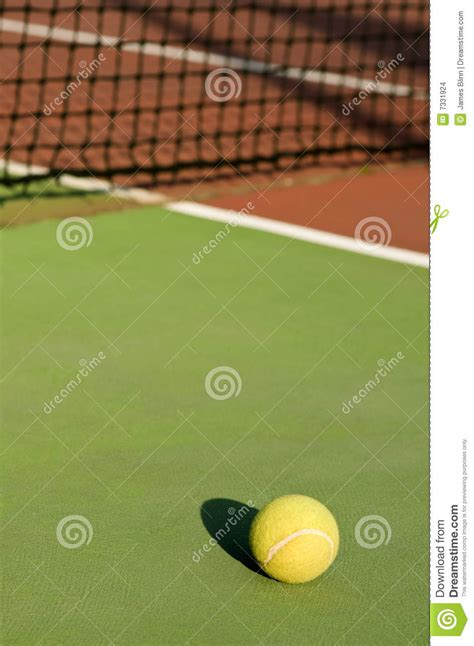tennis_ball: (249, 493, 340, 584)
